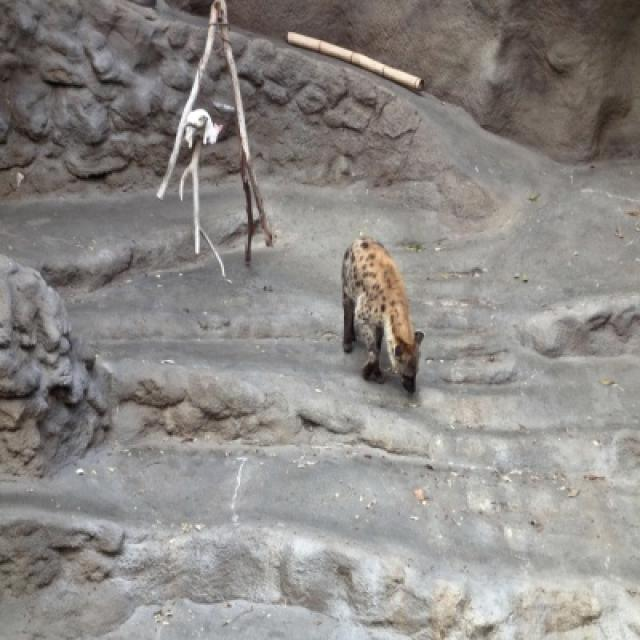hyena: (341, 238, 421, 397)
